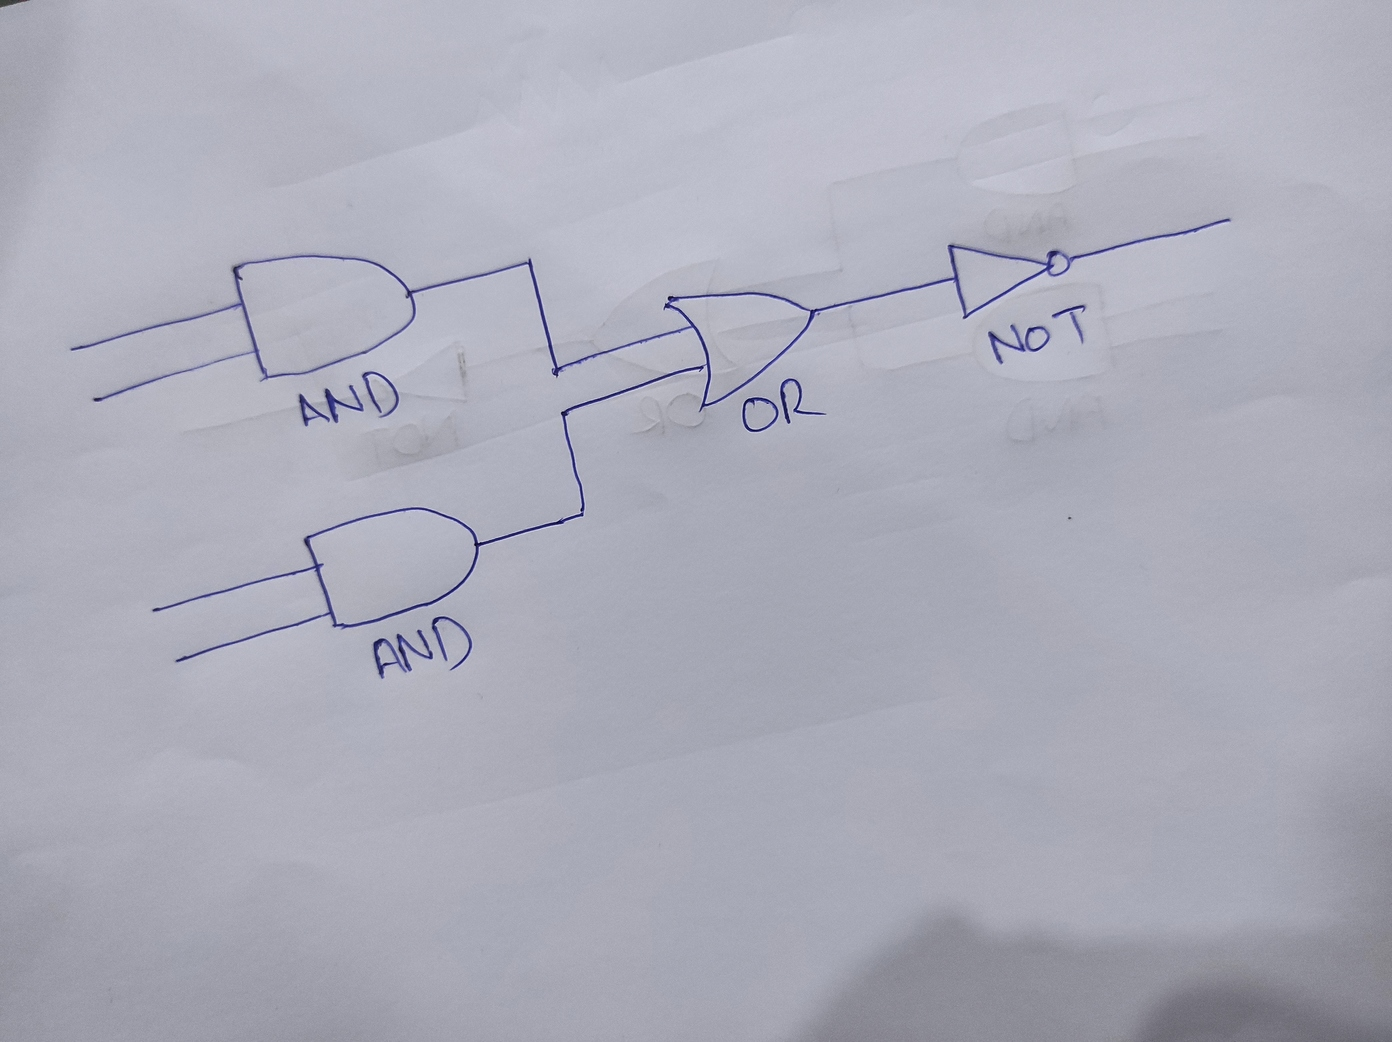and: (224, 250, 418, 384), (299, 503, 483, 630)
junction: (564, 493, 604, 530), (517, 250, 542, 277), (553, 400, 575, 424), (548, 359, 568, 383)
not: (946, 238, 1072, 321)
or: (658, 289, 820, 413)
terminal: (1205, 206, 1245, 233), (147, 602, 165, 620), (88, 392, 107, 408), (65, 343, 84, 358), (170, 653, 186, 669)
text: (984, 300, 1093, 370), (369, 611, 476, 682), (295, 368, 403, 429), (736, 375, 828, 435)
